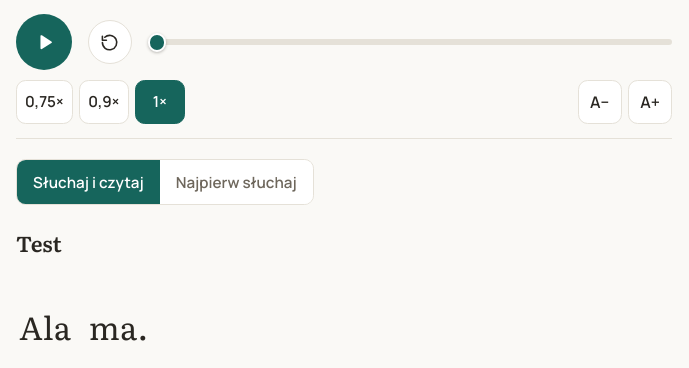
Test: Player › toggles play/pause via the button
Click the button named "odtwórz".
click(44, 42)  # box [16,14,72,70]
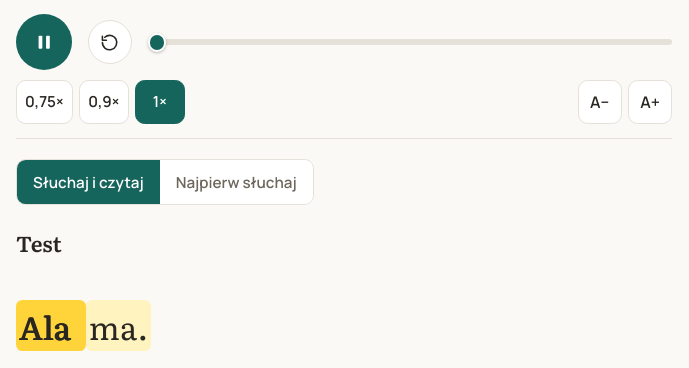
Expected: the button named "pauza" is shown, [16,14,72,70]
